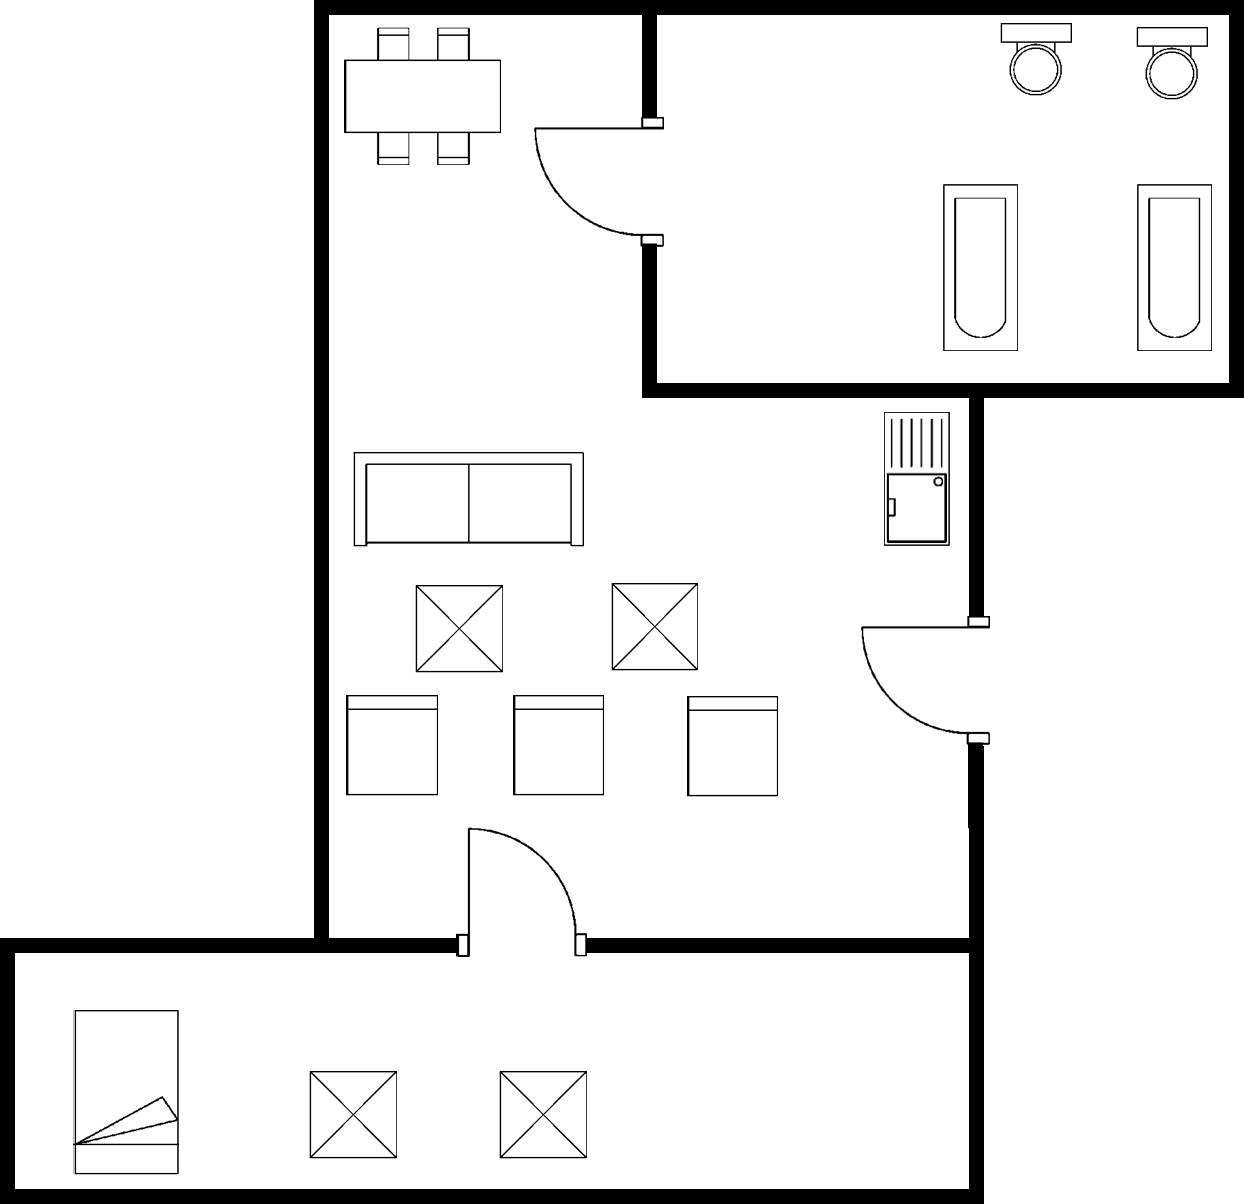bed: (66, 1000, 184, 1182)
coffee_table: (406, 576, 514, 685), (304, 1059, 405, 1168), (605, 574, 708, 682), (495, 1063, 594, 1168)
dining_table: (338, 22, 514, 173)
large_sink: (989, 20, 1083, 107), (1125, 18, 1218, 103)
large_sofa: (341, 442, 595, 556)
sink: (875, 402, 957, 556)
small_sofa: (337, 687, 461, 809), (509, 688, 618, 810), (677, 687, 783, 803)
tub: (931, 174, 1026, 359), (1125, 172, 1217, 360)
